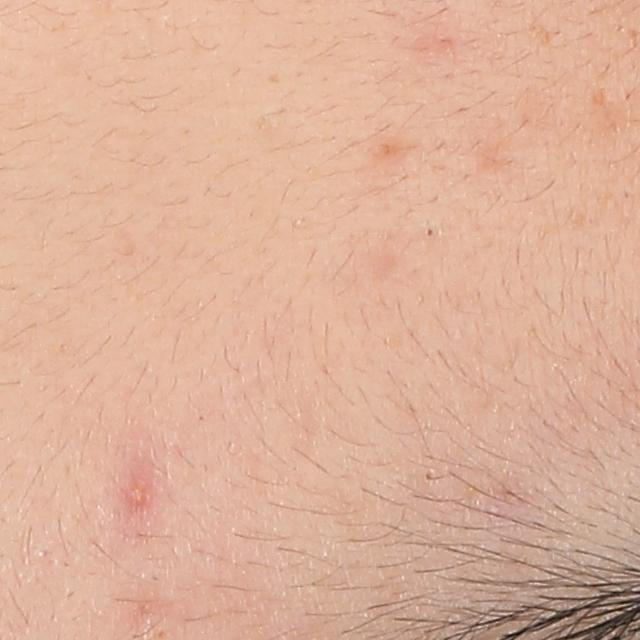comedo: (420, 221, 443, 245)
papule: (116, 475, 149, 517)
